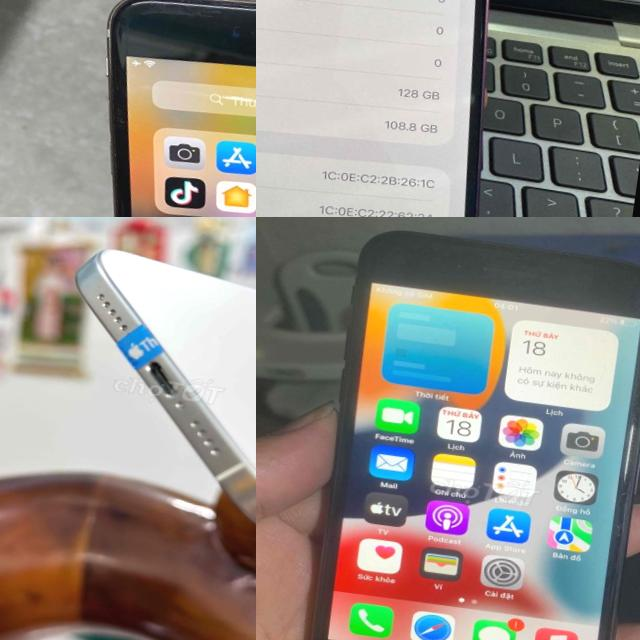physical_damage: (80, 0, 256, 97)
scratch: (90, 74, 141, 198), (621, 285, 640, 374)
